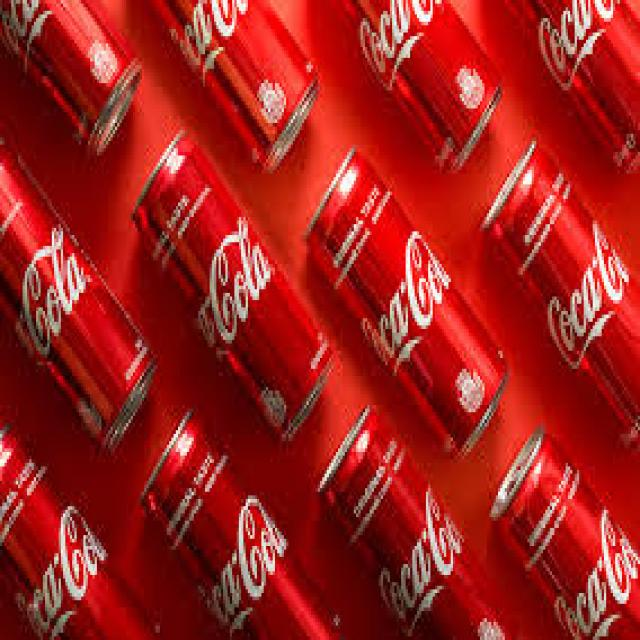Coca-Cola: (132, 136, 339, 445), (304, 153, 516, 454), (478, 132, 639, 451), (0, 126, 158, 438), (140, 416, 347, 640), (317, 420, 510, 640), (487, 434, 640, 640), (0, 415, 149, 623), (142, 0, 319, 175), (336, 2, 503, 175), (509, 0, 640, 174), (0, 3, 142, 158)
